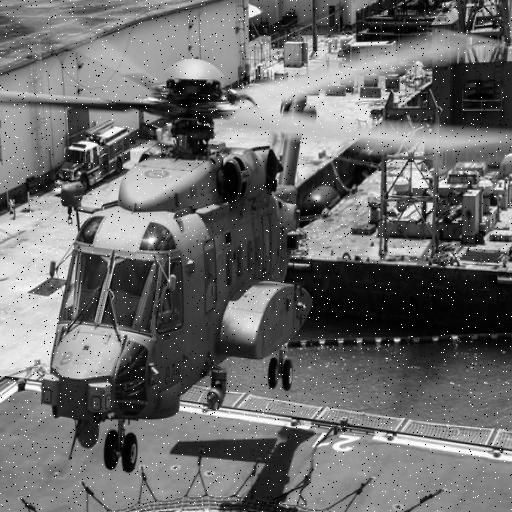helicopter: (1, 1, 431, 479)
